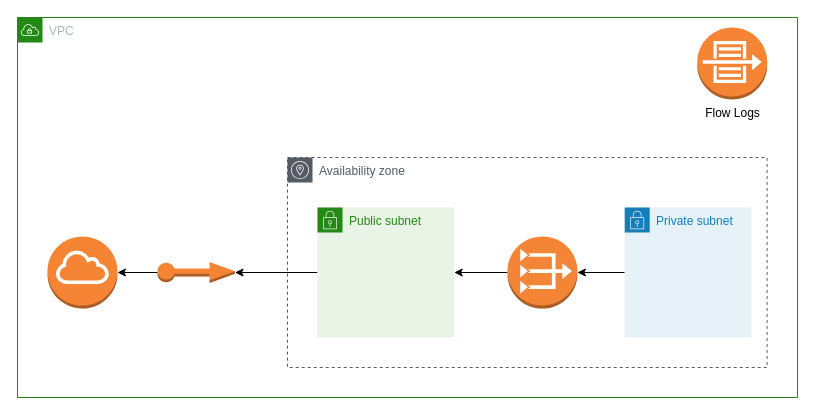
Image size: 815x415. Some labels were removed from this diagram. Each missing label, with the centre of its shape:
"Elastic IP" belongs at point (195, 272).
"Nat Gateway" belongs at point (541, 272).
